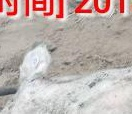text: (20, 48, 49, 73)
